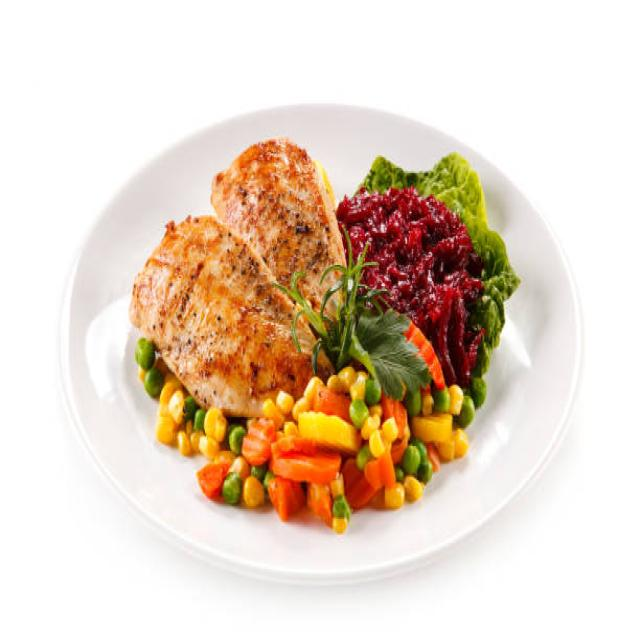Frango: (128, 134, 354, 425)
